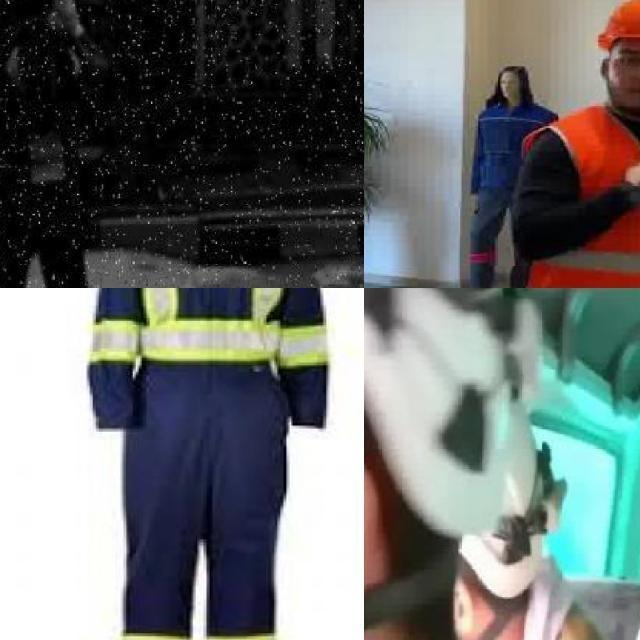apron: (49, 0, 84, 37)
